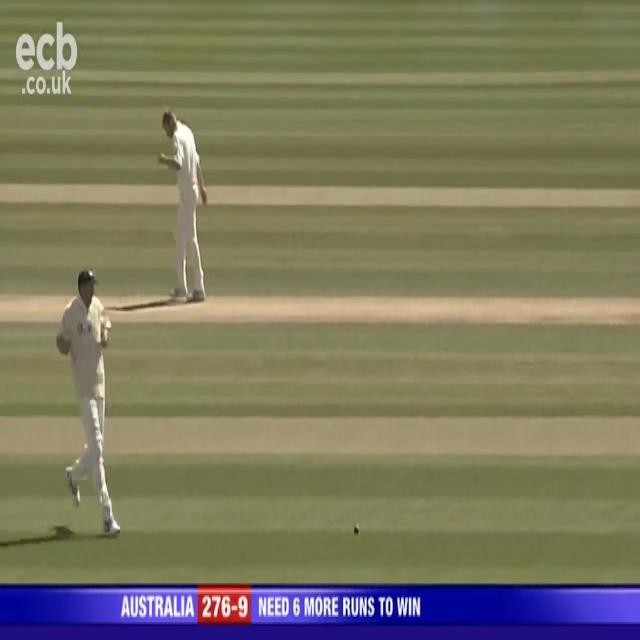ball: (350, 519, 363, 541)
